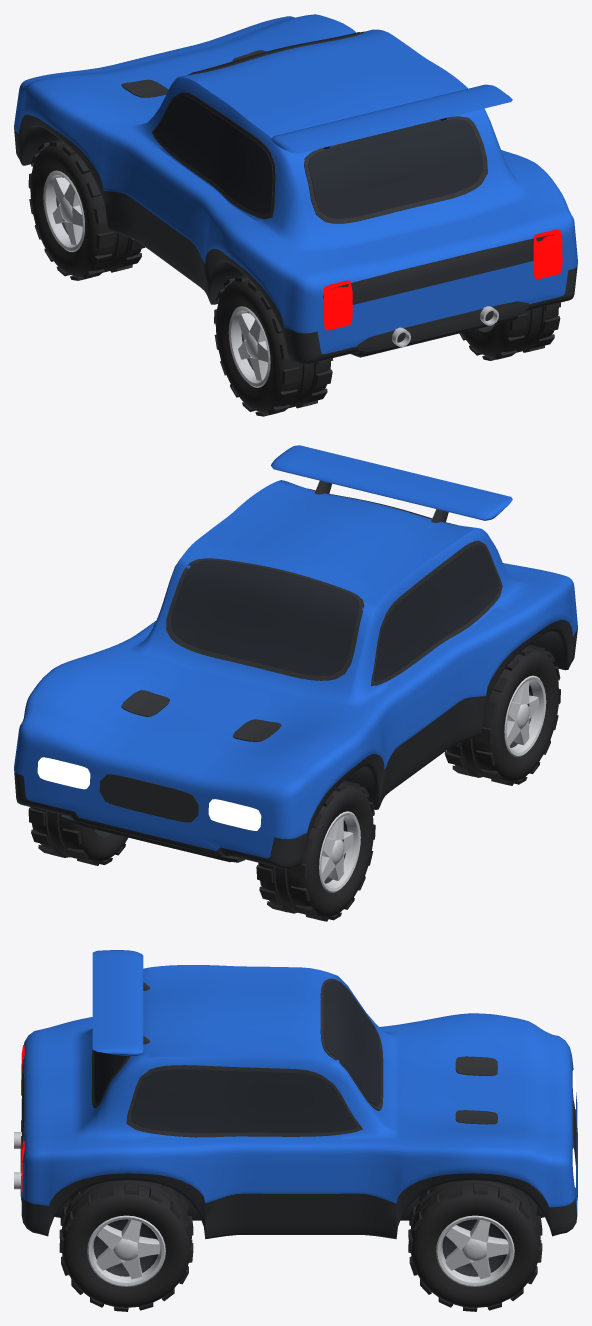
Rendered from car-boxy.glb.
3 renders of one model, top to bottom at view 1: azimuth 30°, elevation 25°; view 2: azimuth 150°, elevation 25°; view 3: azimuth 270°, elevation 25°, orthographic. The views are drawn at different scales.
Parts seen in each view (by area): view 1: Car_Boxy_Body, Car_Boxy_Glass, Car_Boxy_Trim, Car_Boxy_Wheel_RL, Car_Boxy_Wheel_FL, Car_Boxy_Spoiler, Car_Boxy_Wheel_RR, Car_Boxy_Taillights; view 2: Car_Boxy_Body, Car_Boxy_Glass, Car_Boxy_Wheel_FL, Car_Boxy_Wheel_RL, Car_Boxy_Trim, Car_Boxy_Spoiler, Car_Boxy_Wheel_FR, Car_Boxy_Headlights; view 3: Car_Boxy_Body, Car_Boxy_Glass, Car_Boxy_Wheel_FR, Car_Boxy_Wheel_RR, Car_Boxy_Trim, Car_Boxy_Spoiler.
Part boxes in pixels (x1,y1,x2,y2): Car_Boxy_Body: [14, 14, 577, 364]; Car_Boxy_Glass: [154, 32, 483, 218]; Car_Boxy_Trim: [121, 31, 554, 351]; Car_Boxy_Wheel_RL: [214, 275, 333, 416]; Car_Boxy_Wheel_FL: [28, 139, 145, 280]; Car_Boxy_Spoiler: [271, 84, 512, 153]; Car_Boxy_Wheel_RR: [459, 302, 560, 360]; Car_Boxy_Taillights: [323, 229, 562, 330]; Car_Boxy_Body: [14, 480, 577, 868]; Car_Boxy_Glass: [171, 493, 500, 681]; Car_Boxy_Wheel_FL: [256, 780, 375, 921]; Car_Boxy_Wheel_RL: [444, 644, 560, 785]; Car_Boxy_Trim: [61, 488, 502, 862]; Car_Boxy_Spoiler: [271, 445, 512, 522]; Car_Boxy_Wheel_FR: [28, 807, 127, 865]; Car_Boxy_Headlights: [37, 757, 261, 830]; Car_Boxy_Body: [21, 965, 577, 1239]; Car_Boxy_Glass: [94, 980, 380, 1133]; Car_Boxy_Wheel_FR: [408, 1180, 542, 1311]; Car_Boxy_Wheel_RR: [59, 1180, 193, 1311]; Car_Boxy_Trim: [14, 978, 576, 1201]; Car_Boxy_Spoiler: [92, 950, 149, 1055].
Bounding box in the file's own units: 0.7056 × 0.5763 × 1.18.
